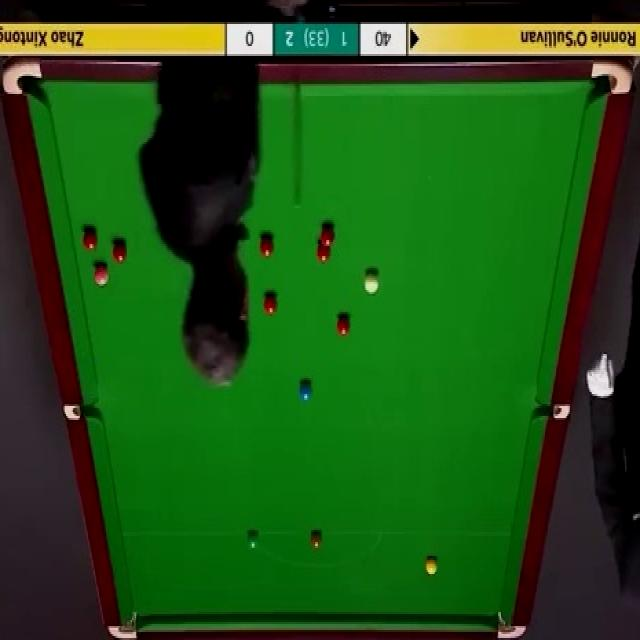pocket: (590, 62, 630, 102), (3, 62, 43, 100), (108, 611, 140, 640), (495, 612, 526, 640), (66, 402, 99, 422), (533, 405, 571, 417)
